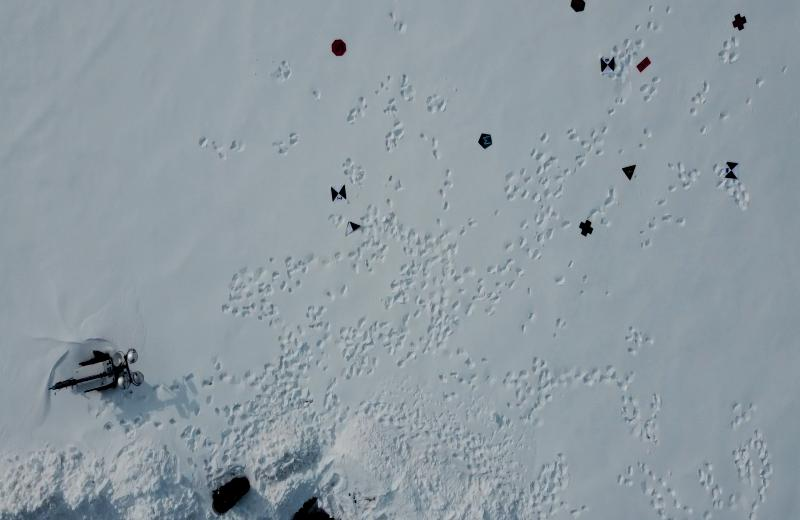Cross: (577, 218, 596, 238), (732, 12, 748, 33)
Hexagon: (569, 0, 587, 14)
Octagon: (330, 37, 348, 57)
Pentagon: (478, 132, 493, 151)
Rectangle: (636, 56, 652, 75)
Triangle: (621, 164, 638, 181)
